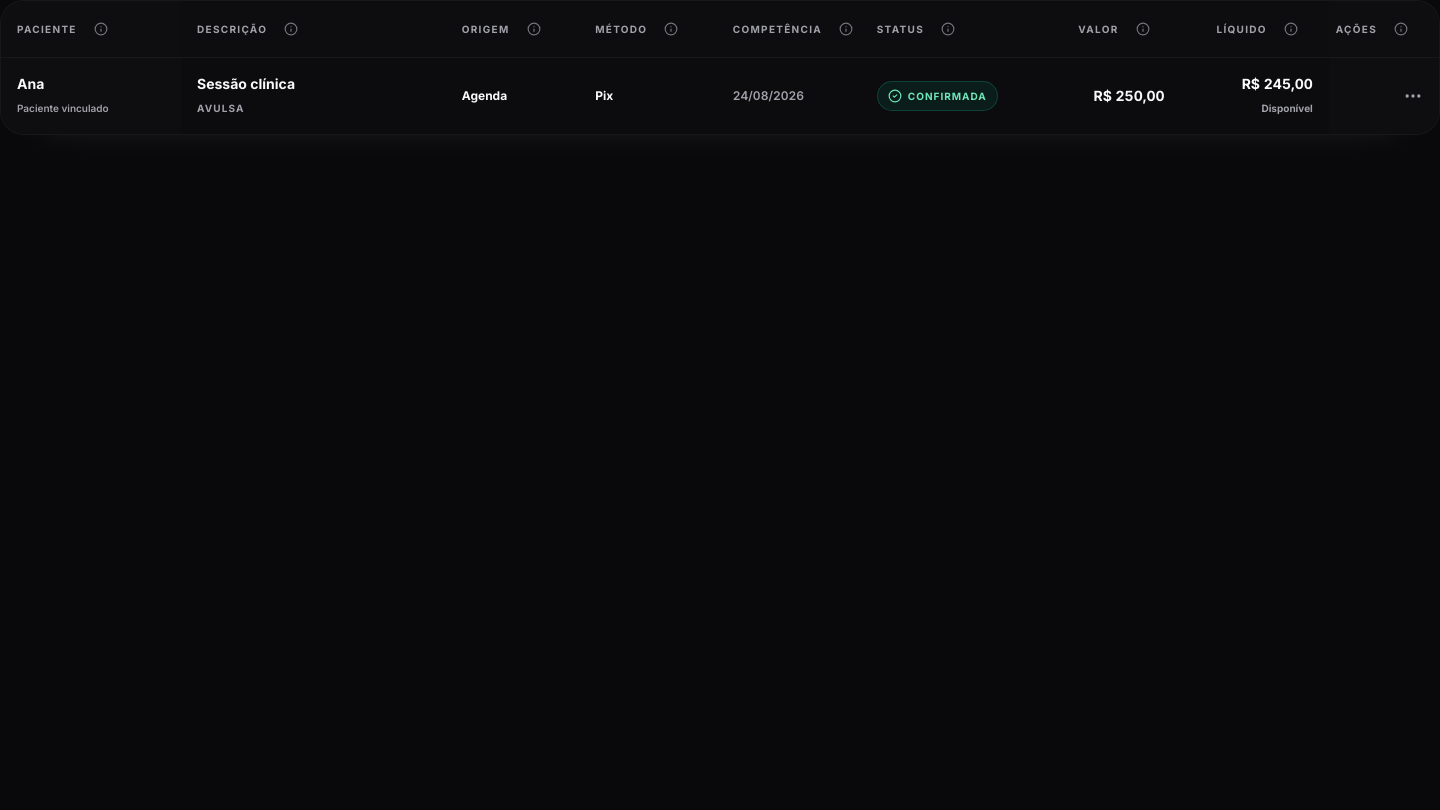
it: FinanceDataTable › renders the canonical columns with accessible help
Expected: the text "Paciente" is shown, [17,19,77,39]
Expected: the text "Descrição" is shown, [197,19,267,39]
Click the button named "Entender a coluna Competência" at (846, 29), box [824,7,868,51]
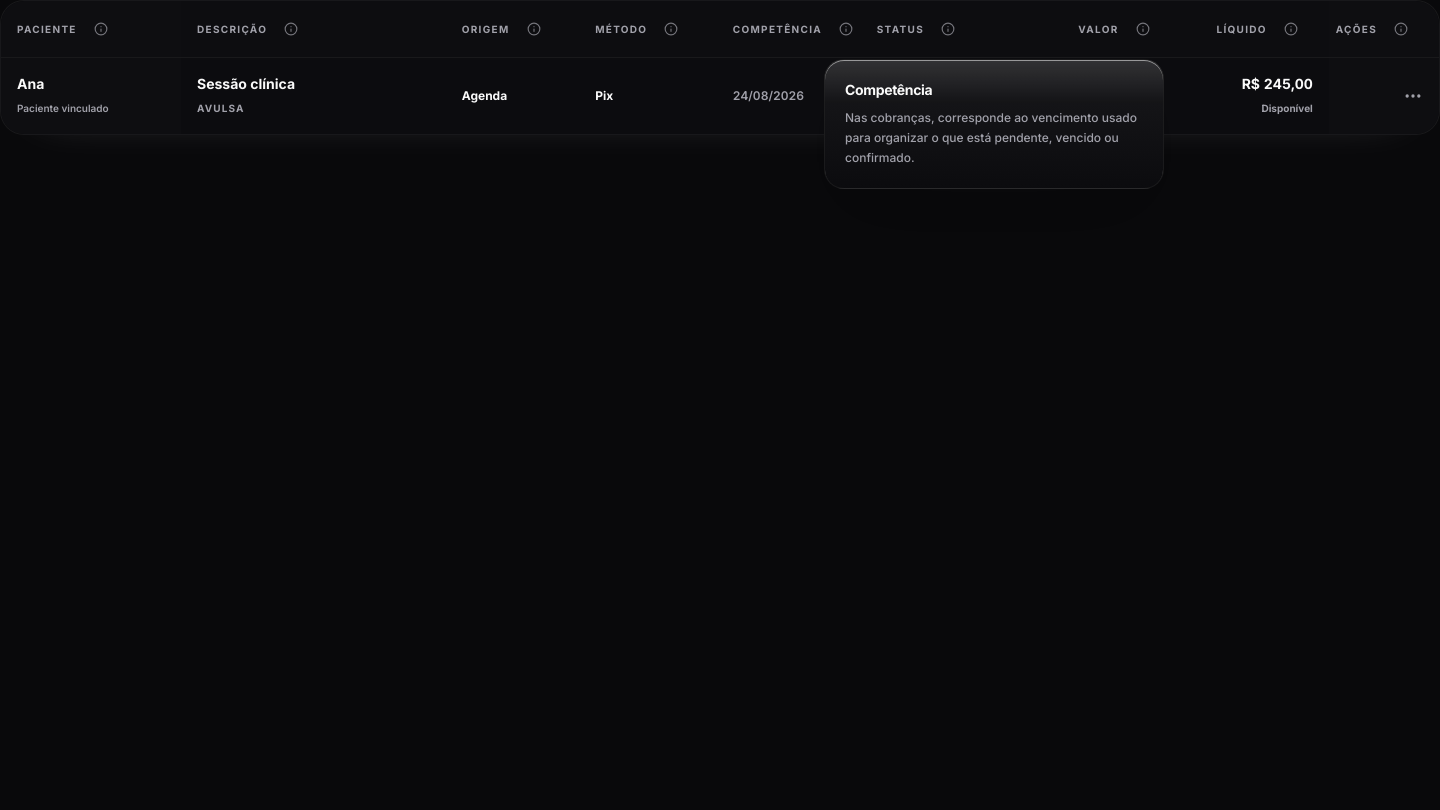
Now the text "Nas cobranças, corresponde ao vencimento" is shown, box [845,110,1137,165]
Press Escape
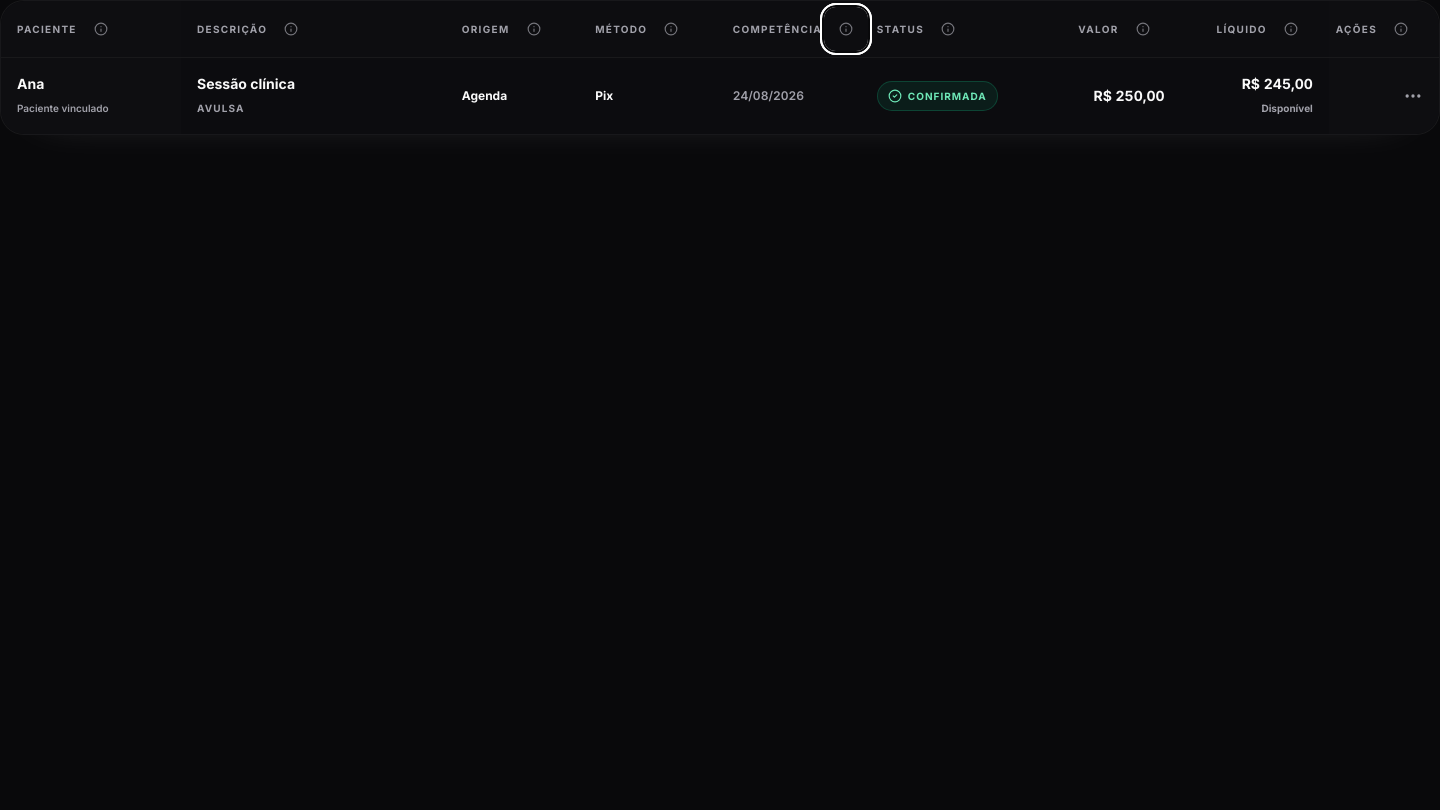
Now the text "Nas cobranças, corresponde ao vencimento" is gone
